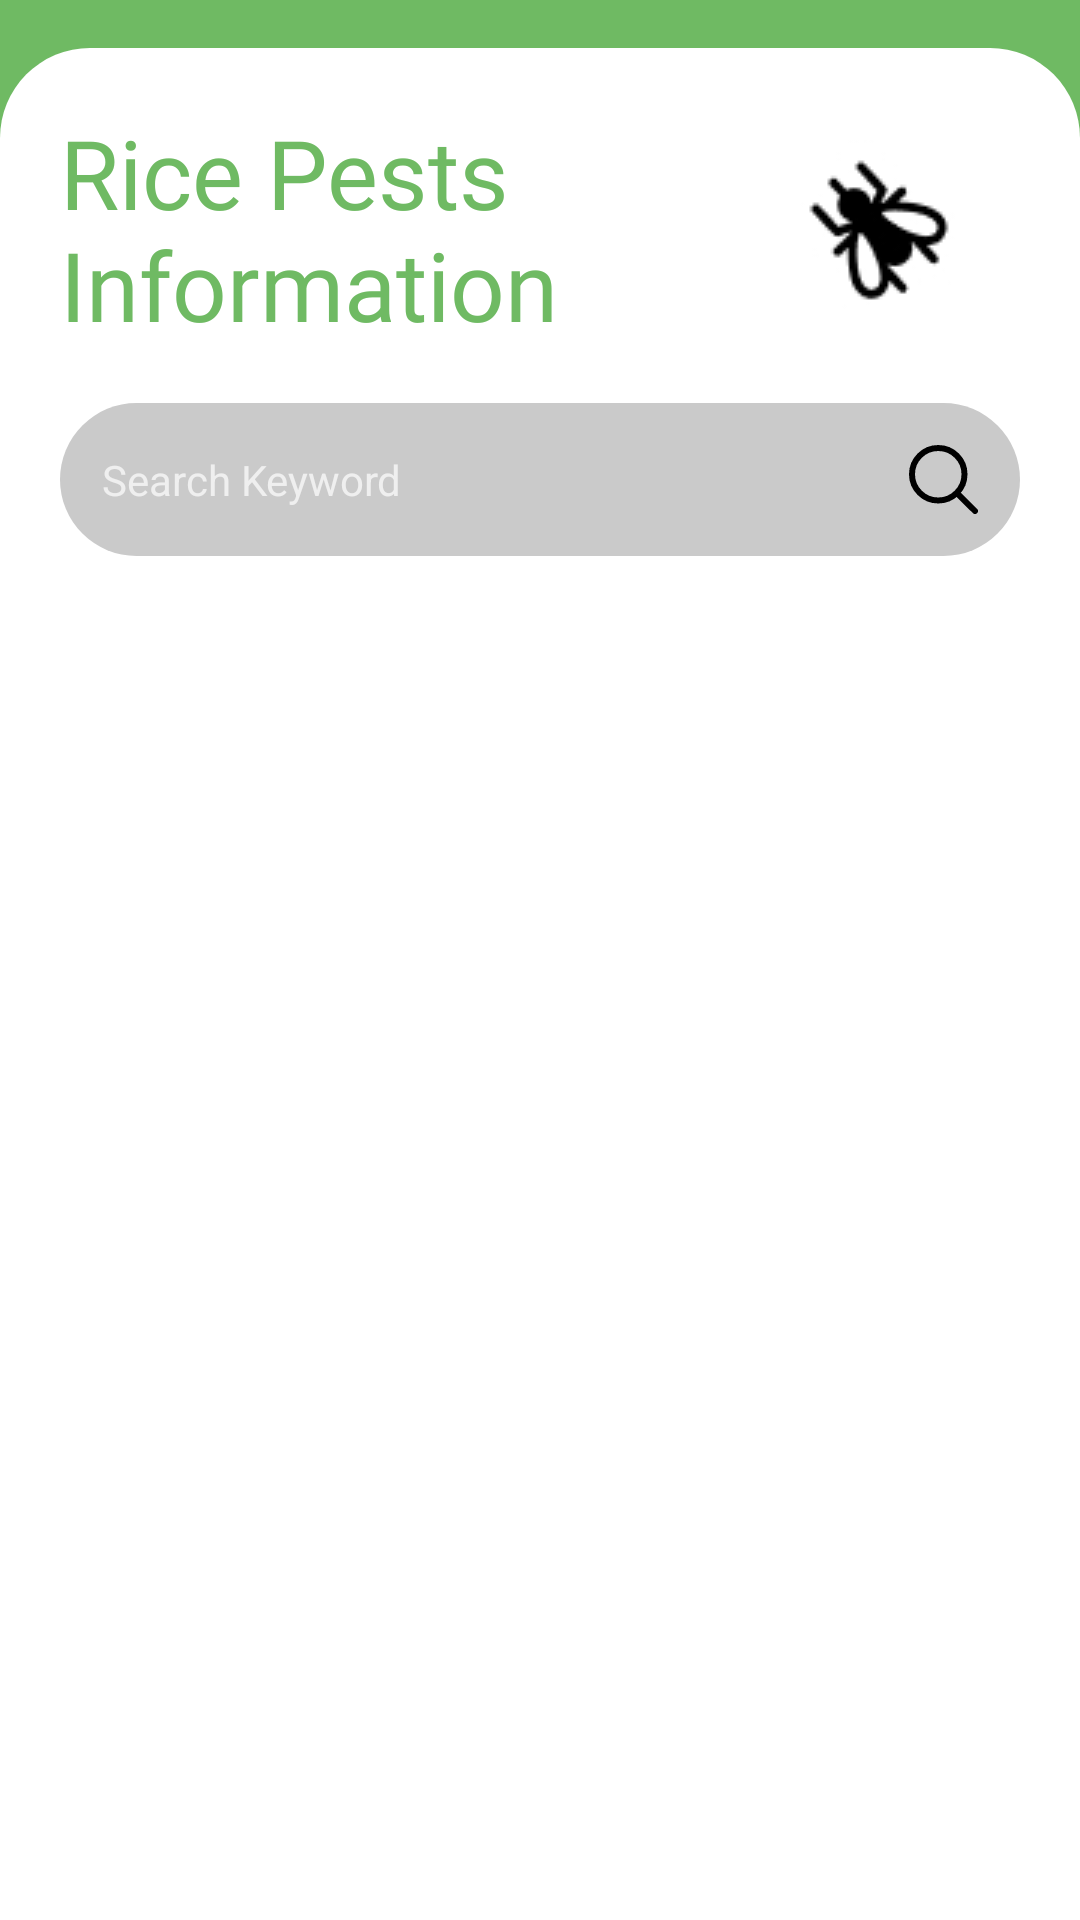

Screen size 1080x1920. Icon name, then its box in pixels as region(x1, y1, x2, y2):
pesticon: region(809, 160, 949, 300)
